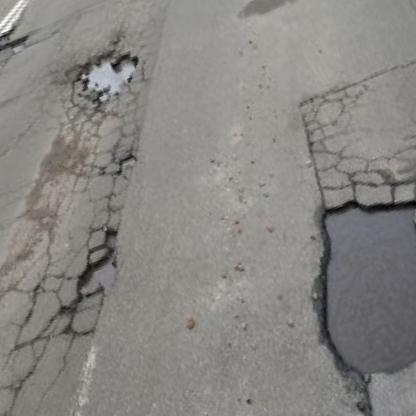pothole: (282, 165, 416, 388), (74, 42, 149, 107), (66, 244, 128, 301), (0, 33, 29, 54), (98, 224, 121, 249), (114, 152, 139, 172), (0, 26, 16, 41)
